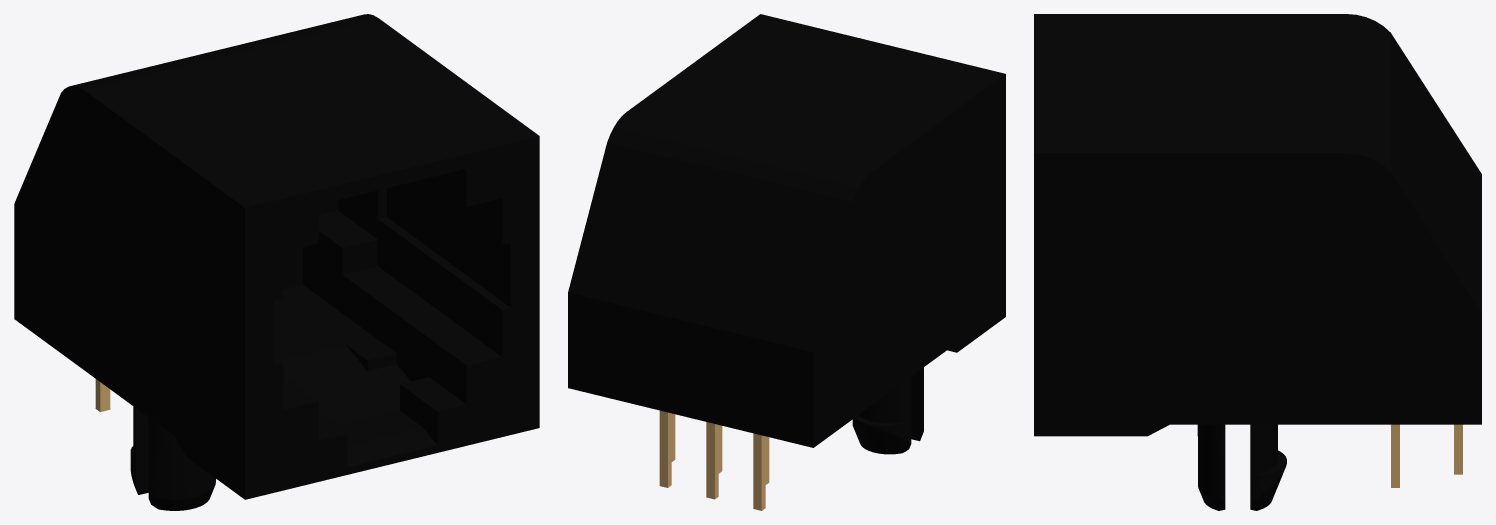
3 renders of one model, left to right at view 1: azimuth 30°, elevation 25°; view 2: azimuth 150°, elevation 25°; view 3: azimuth 270°, elevation 25°, orthographic. The views are drawn at different scales.
Parts seen in each view (by area): view 1: _32; view 2: _32; view 3: _32.
Part boxes in pixels (box(x1,y1,x2,y2)): _32: box(14, 14, 539, 510); _32: box(568, 14, 1005, 510); _32: box(1034, 14, 1481, 510).
Bounding box in the file's own units: 13.28 × 18.03 × 16.38.
